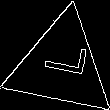L_W: (34, 46, 88, 86)
